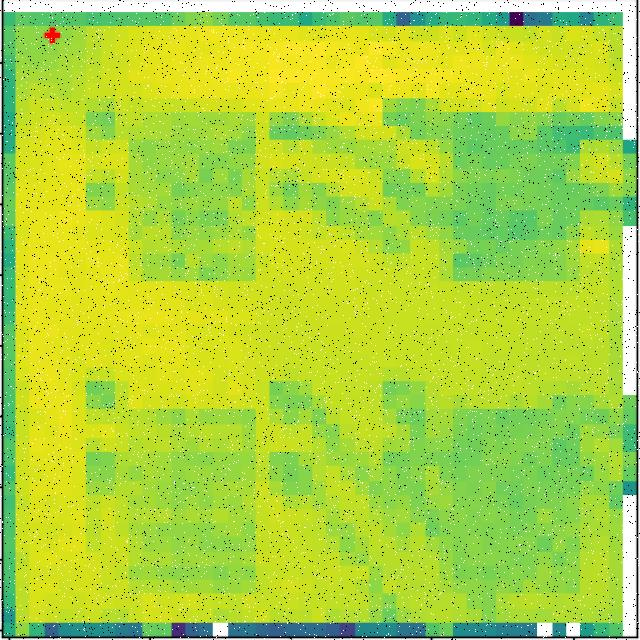Concrete: (442, 398, 582, 596)
Glass: (442, 110, 582, 282)
Metal: (127, 410, 256, 594)
Wood: (126, 112, 255, 283)
